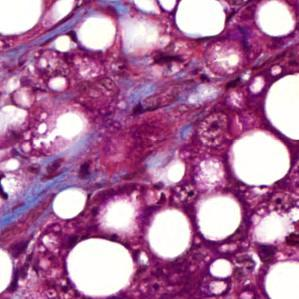steatosis: (62, 237, 136, 296), (230, 129, 290, 185), (195, 193, 247, 241), (147, 210, 193, 259), (49, 185, 91, 222)
